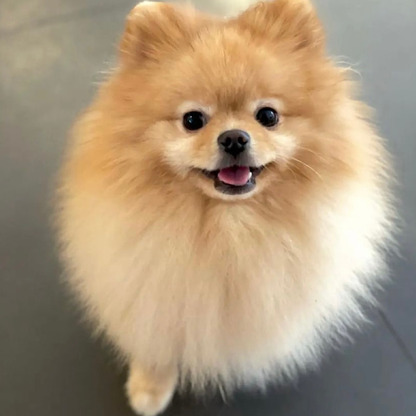Pomeranian: (70, 10, 389, 391)
